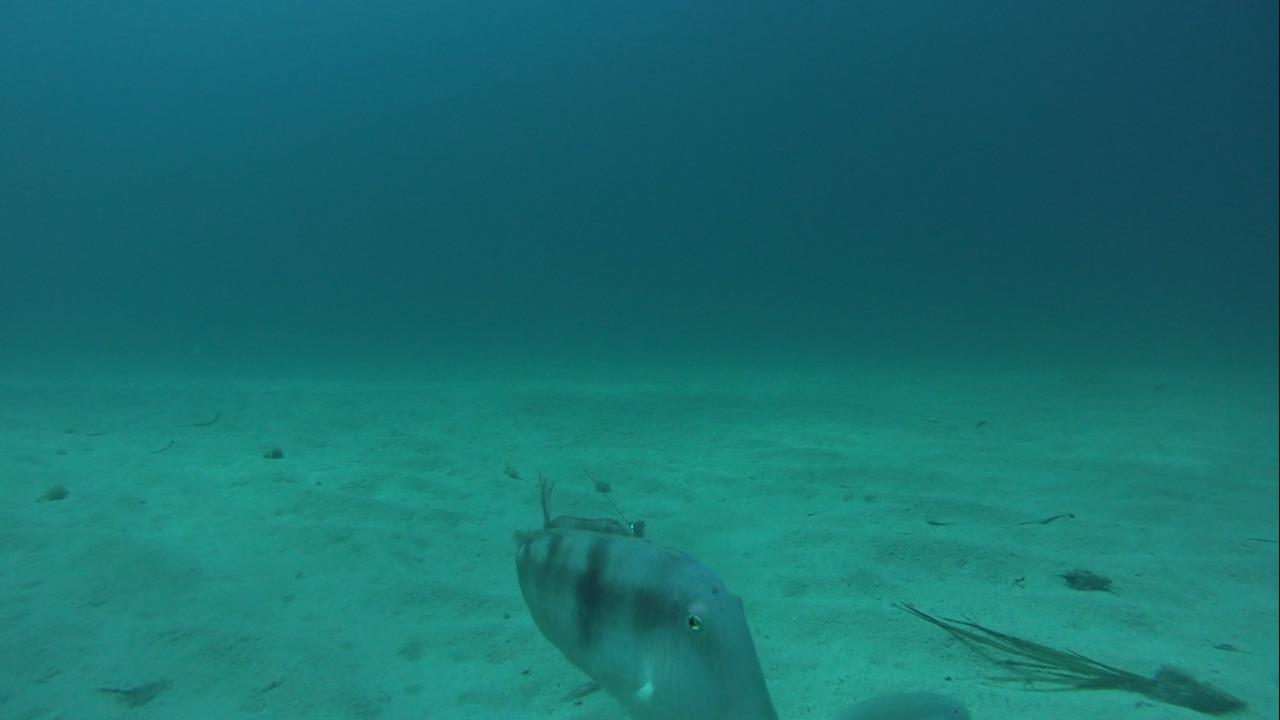raor: (495, 511, 775, 714), (830, 684, 965, 719)
